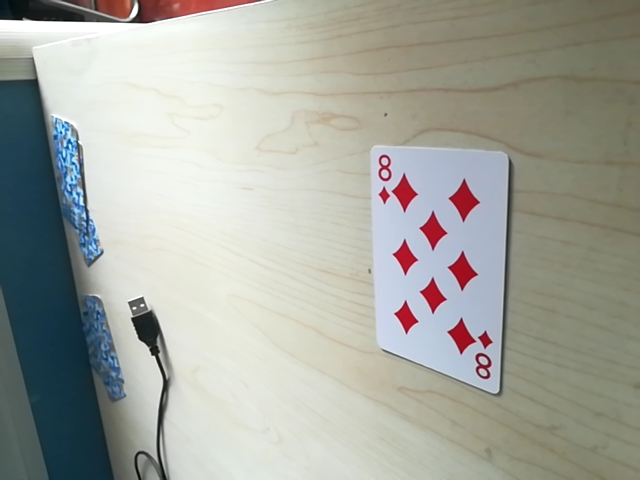fk 8: (464, 335, 498, 388), (368, 149, 400, 200)
